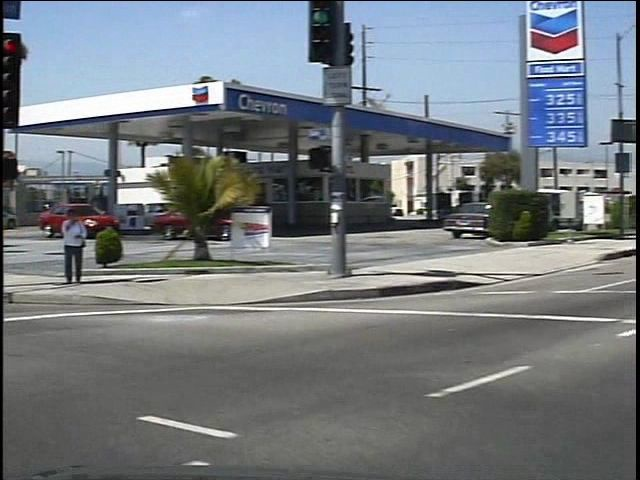person: (49, 203, 81, 290)
